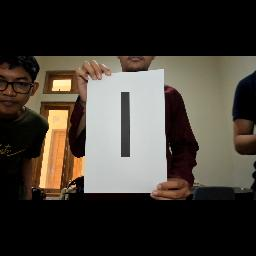i: (110, 88, 144, 164)
